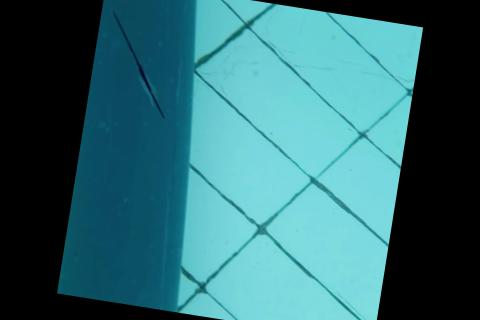keretakan: (101, 11, 177, 115)
